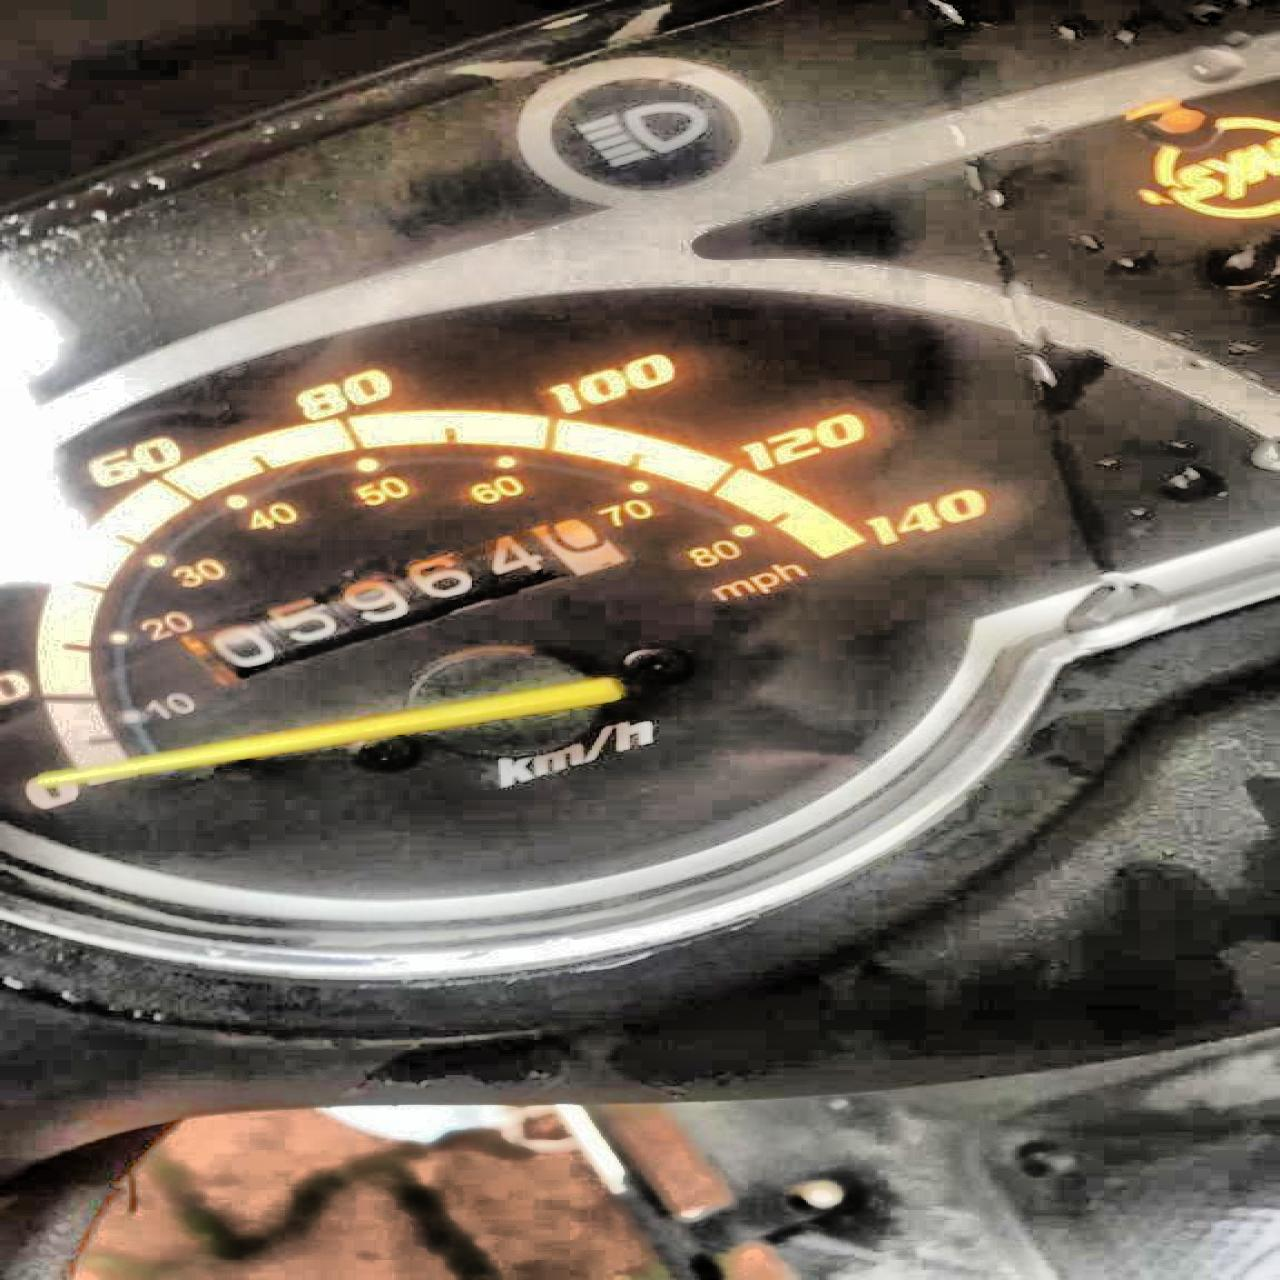0: (207, 625, 275, 667), (543, 515, 606, 554), (195, 556, 225, 580), (163, 608, 193, 632)
3: (170, 565, 200, 587)
4: (481, 533, 547, 577), (247, 506, 278, 531)
5: (259, 597, 339, 642)
6: (406, 556, 474, 595)
7: (597, 505, 627, 529)
9: (334, 579, 410, 620)
odometer: (165, 513, 632, 688)
